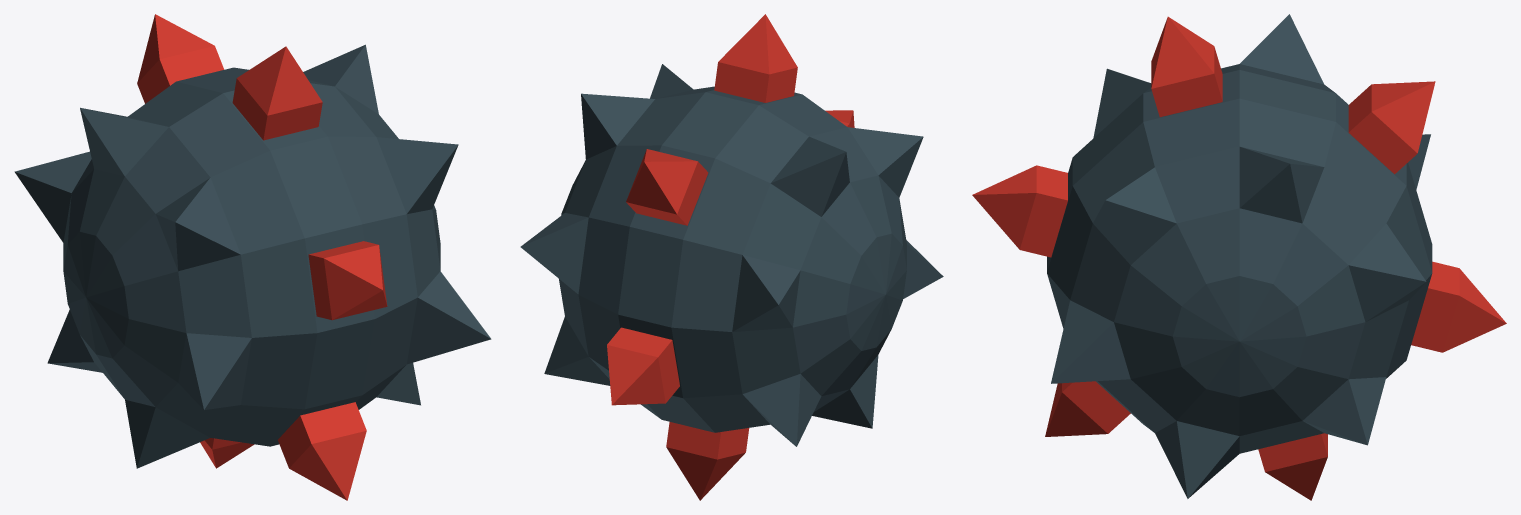
3 views of the same model, side by side, from view 1: azimuth 30°, elevation 25°; view 2: azimuth 150°, elevation 25°; view 3: azimuth 270°, elevation 25° (orthographic). The views are drawn at different scales.
Parts seen in each view (by area): view 1: node_MeshObject992142336-PolyPaper21; view 2: node_MeshObject992142336-PolyPaper21; view 3: node_MeshObject992142336-PolyPaper21.
Part boxes in pixels (<box>): node_MeshObject992142336-PolyPaper21: <box>14,14,491,500</box>; node_MeshObject992142336-PolyPaper21: <box>520,14,943,500</box>; node_MeshObject992142336-PolyPaper21: <box>972,14,1506,500</box>.
Size of the model in its own units: 0.12 by 0.1639 by 0.164.
